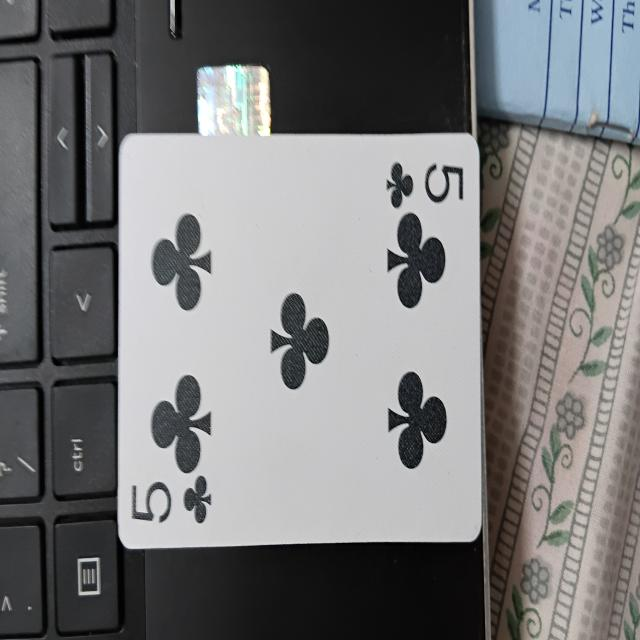5C: (122, 131, 480, 545)
